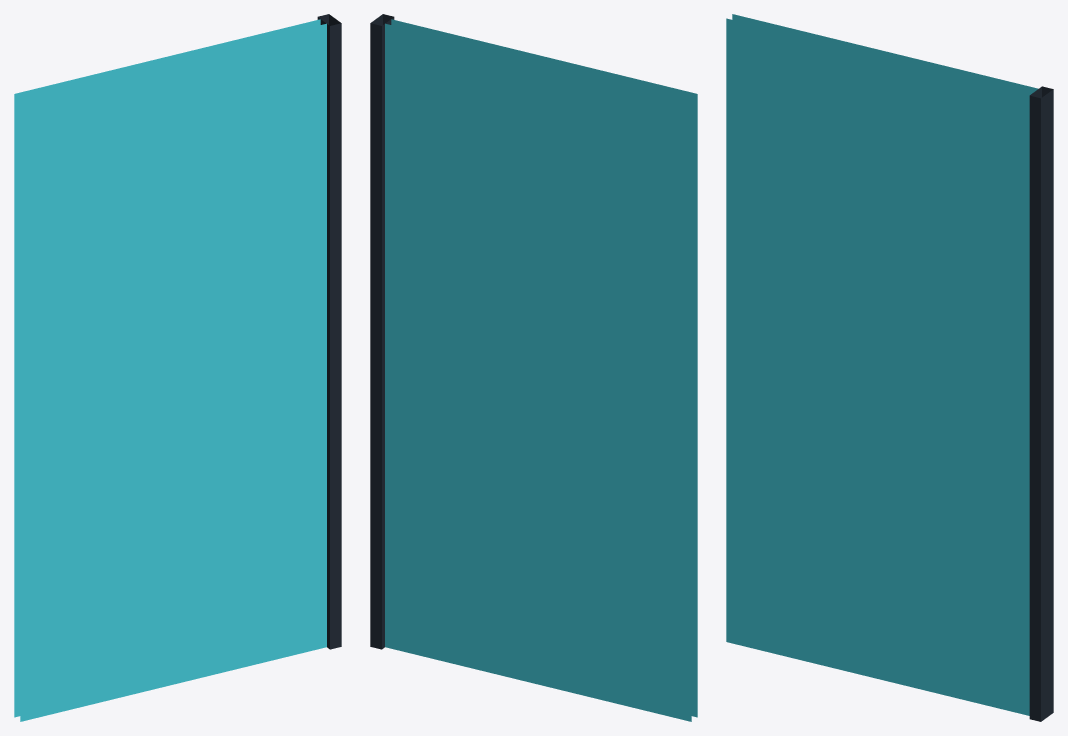
Rendered from SM_Buildings_Gas_Station_Door.fbx.
3 views of the same model, side by side, from view 1: azimuth 30°, elevation 25°; view 2: azimuth 150°, elevation 25°; view 3: azimuth 330°, elevation 25° (orthographic).
Visible parts, largest first — view 1: SM_Buildings_Gas_Station_Door; view 2: SM_Buildings_Gas_Station_Door; view 3: SM_Buildings_Gas_Station_Door.
Part boxes in pixels (x1=…): SM_Buildings_Gas_Station_Door: x1=14, y1=14, x2=341, y2=721; SM_Buildings_Gas_Station_Door: x1=370, y1=14, x2=697, y2=721; SM_Buildings_Gas_Station_Door: x1=726, y1=14, x2=1053, y2=721.
Size of the model in its own units: 1.38 by 2.59 by 0.0947.
